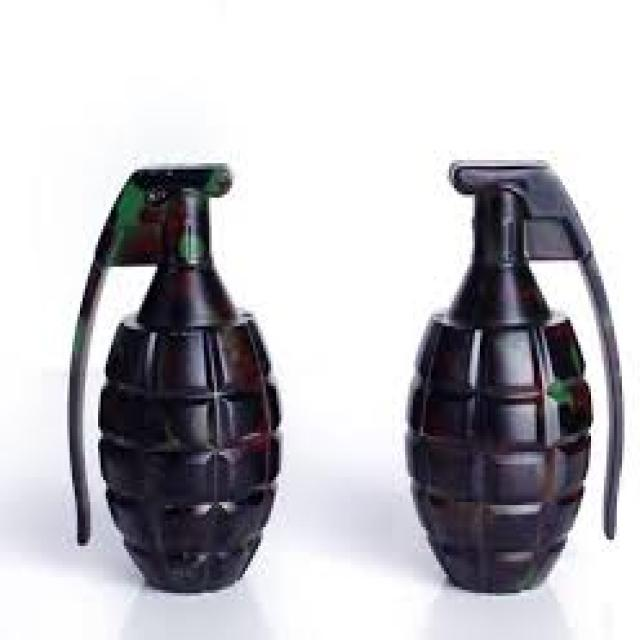grenade: (55, 156, 299, 602), (397, 152, 636, 596)
